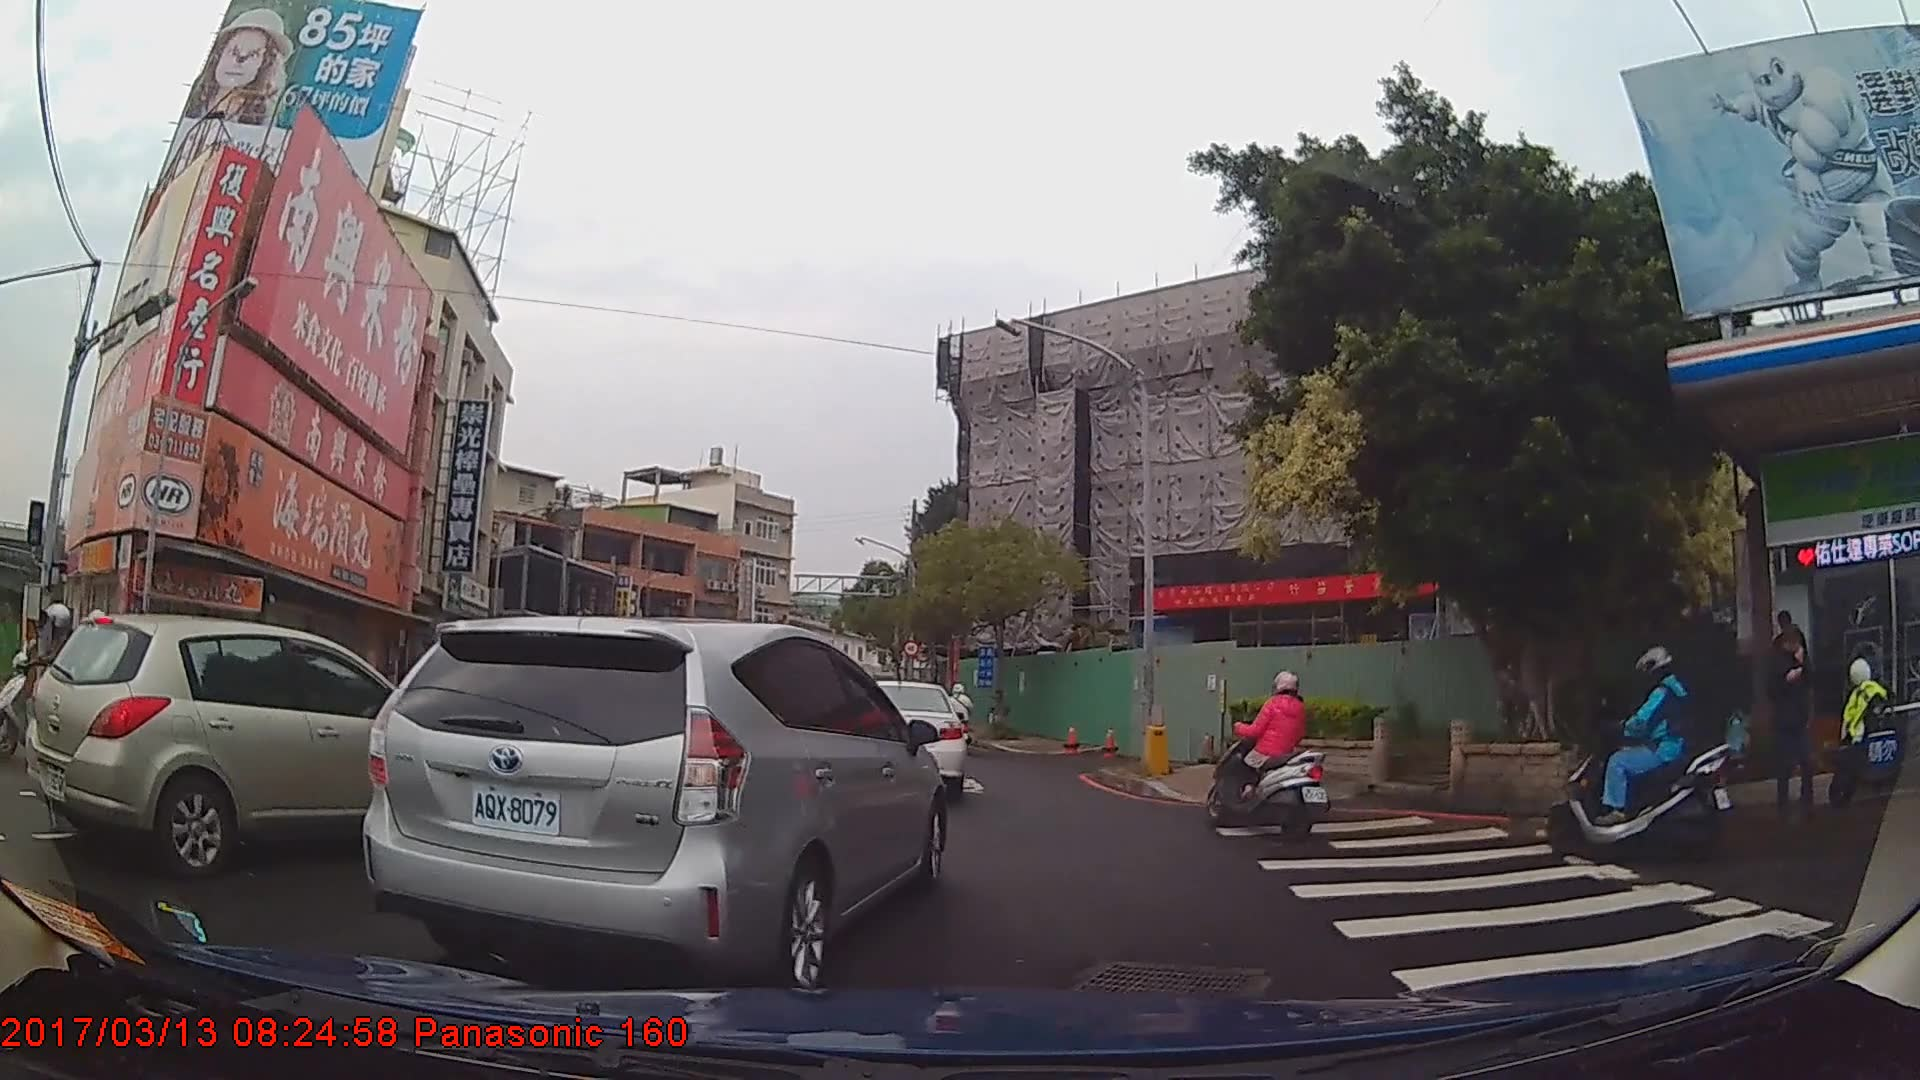pedestrian: (1764, 625, 1823, 808), (1768, 613, 1811, 747)
rider: (1543, 643, 1735, 857), (1208, 670, 1334, 842), (948, 684, 975, 754)
vehicle: (356, 607, 951, 991), (24, 605, 464, 872), (849, 679, 965, 800)
